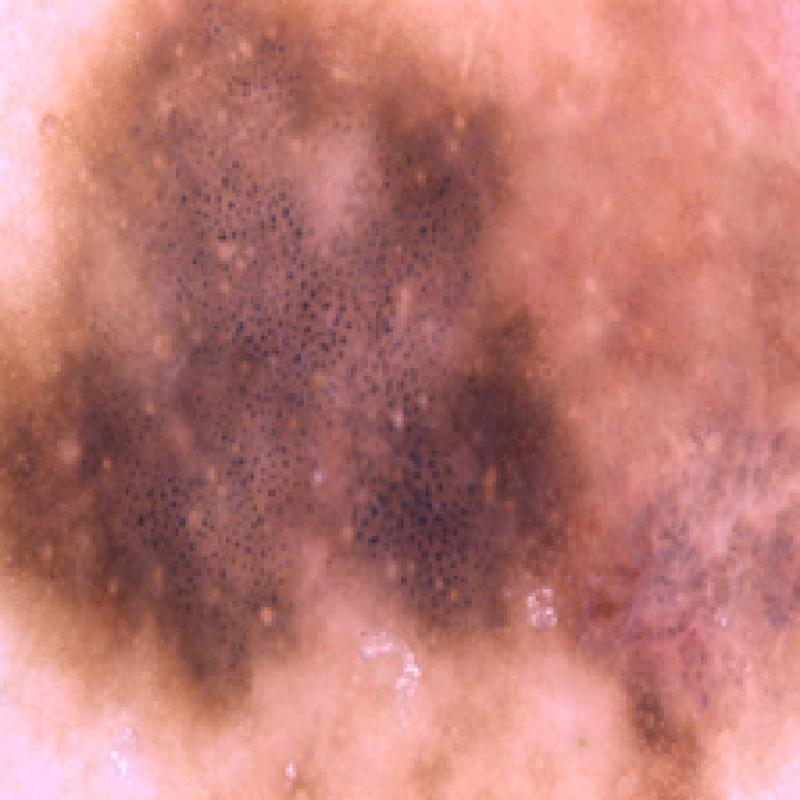benign: (0, 3, 796, 800)
